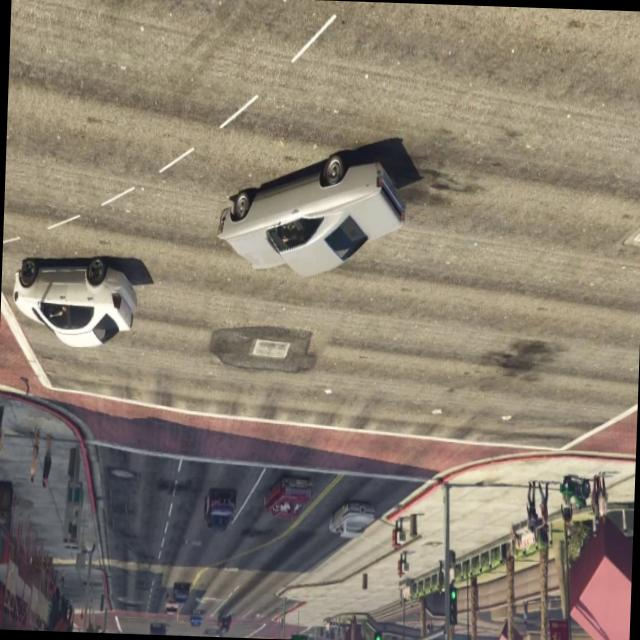Green-Signal: (444, 578, 462, 632), (288, 622, 312, 640), (368, 622, 386, 640)
